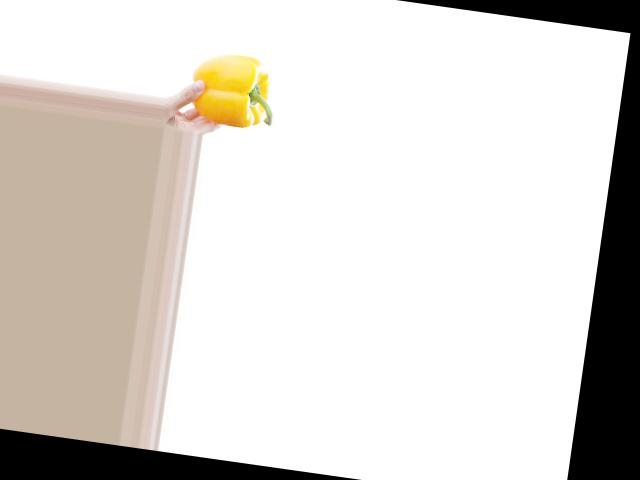bell_pepper: (185, 47, 285, 132)
